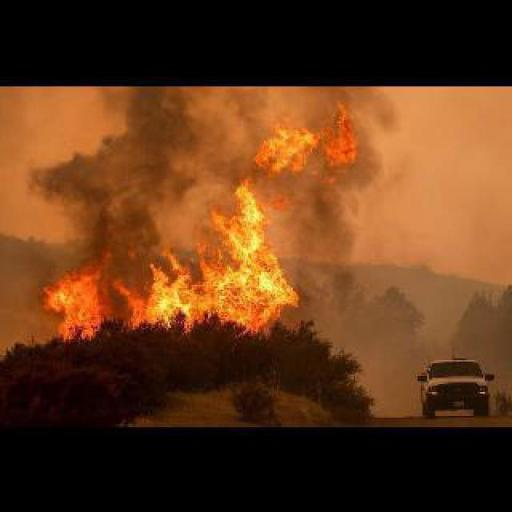smoke: (124, 90, 358, 326), (33, 79, 224, 298), (286, 166, 382, 312), (46, 264, 114, 336)
